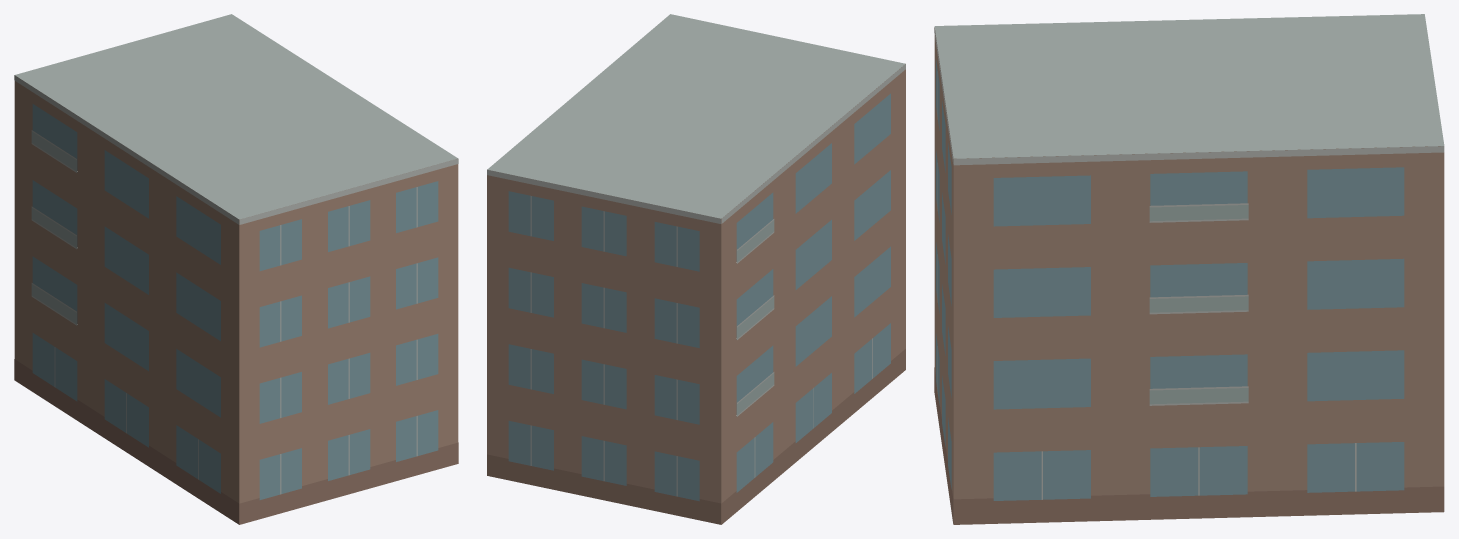
File: survey-upis-32945260.glb
3 views of the same model, side by side, from view 1: azimuth 30°, elevation 25°; view 2: azimuth 150°, elevation 25°; view 3: azimuth 270°, elevation 25° (orthographic). The views are drawn at different scales.
Visible parts, largest first — view 1: survey-upis-32945260.tmp; view 2: survey-upis-32945260.tmp; view 3: survey-upis-32945260.tmp.
Boxes of the visible parts, <box> form: survey-upis-32945260.tmp: <box>14,14,458,524</box>; survey-upis-32945260.tmp: <box>487,14,905,524</box>; survey-upis-32945260.tmp: <box>934,14,1444,524</box>.
Size of the model in its own units: 11.61 by 13.68 by 17.28.
